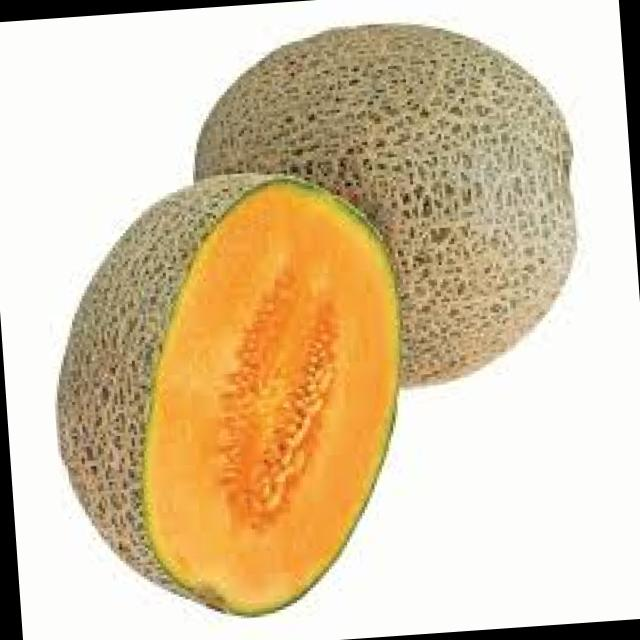cantaloupe: (39, 162, 418, 631), (182, 9, 590, 400)
